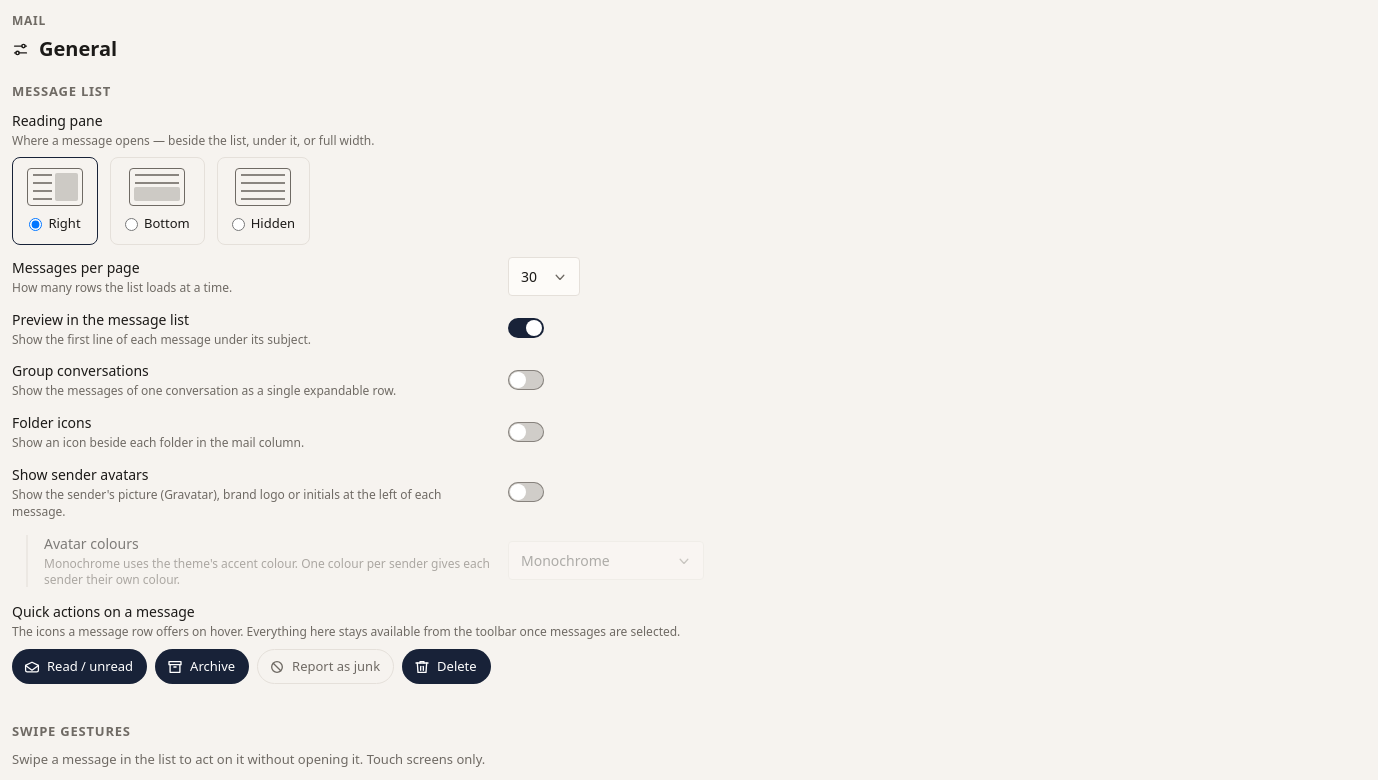
reading pane › saves the chosen position
This screenshot has width=1378, height=780.
Click the radio button labelled "Hidden".
click(238, 224)  # box [232, 218, 245, 230]
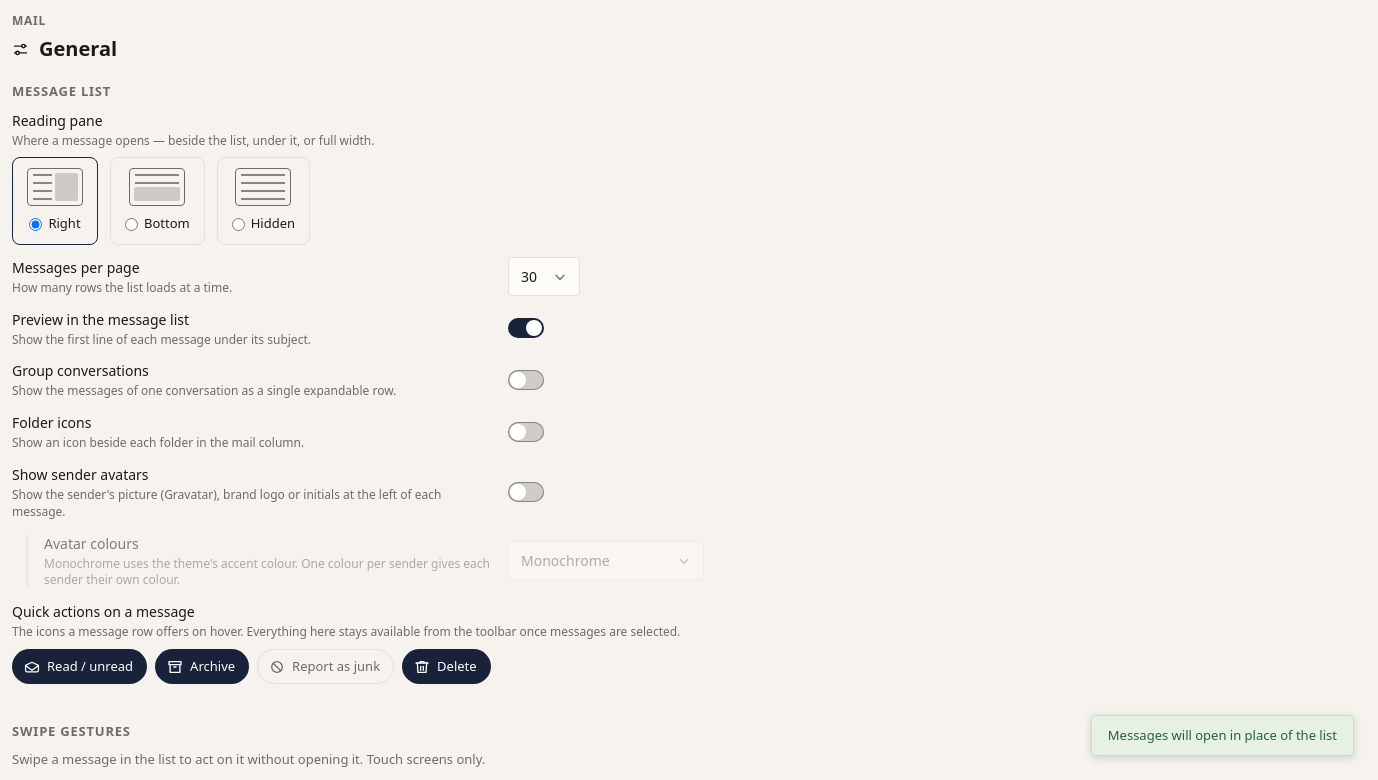
Expected: the text "Messages will open in place of the list" is shown, [1108, 726, 1337, 745]
